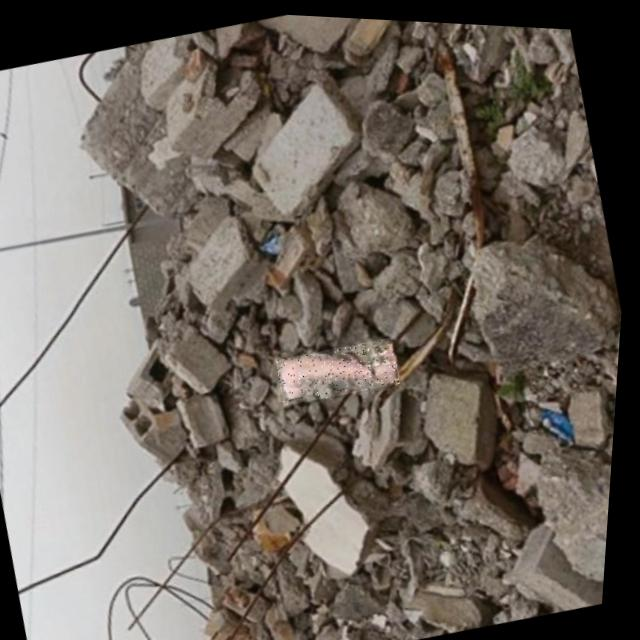Person in Rubble: (278, 327, 408, 406)
